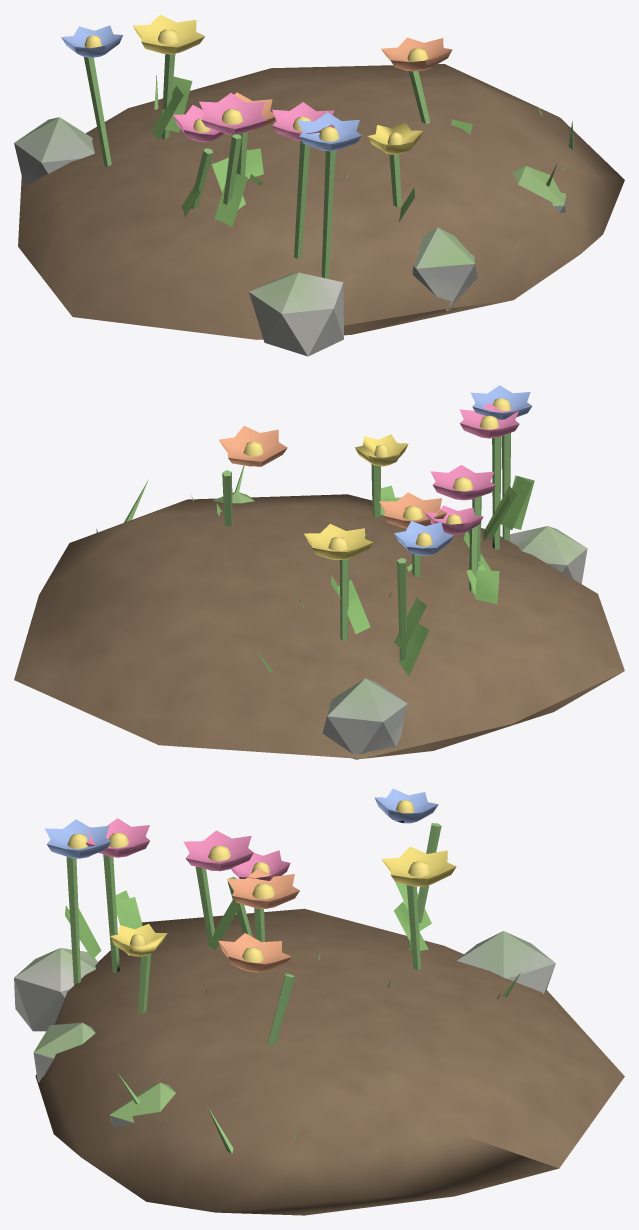
The model's file is flowerbed.gltf.
The picture shows the model from 3 angles, top to bottom: view 1: azimuth 30°, elevation 25°; view 2: azimuth 150°, elevation 25°; view 3: azimuth 270°, elevation 25°; orthographic projection. The views are drawn at different scales.
Parts seen in each view (by area): view 1: flowerbed; view 2: flowerbed; view 3: flowerbed.
Part boxes in pixels (left/top/right/bottom): flowerbed: left=14, top=14, right=624, bottom=356; flowerbed: left=14, top=385, right=624, bottom=759; flowerbed: left=14, top=788, right=624, bottom=1215.
Size of the model in its own units: 1.08 by 0.3839 by 0.9963.
Materials: 1 (1 with a texture image).
